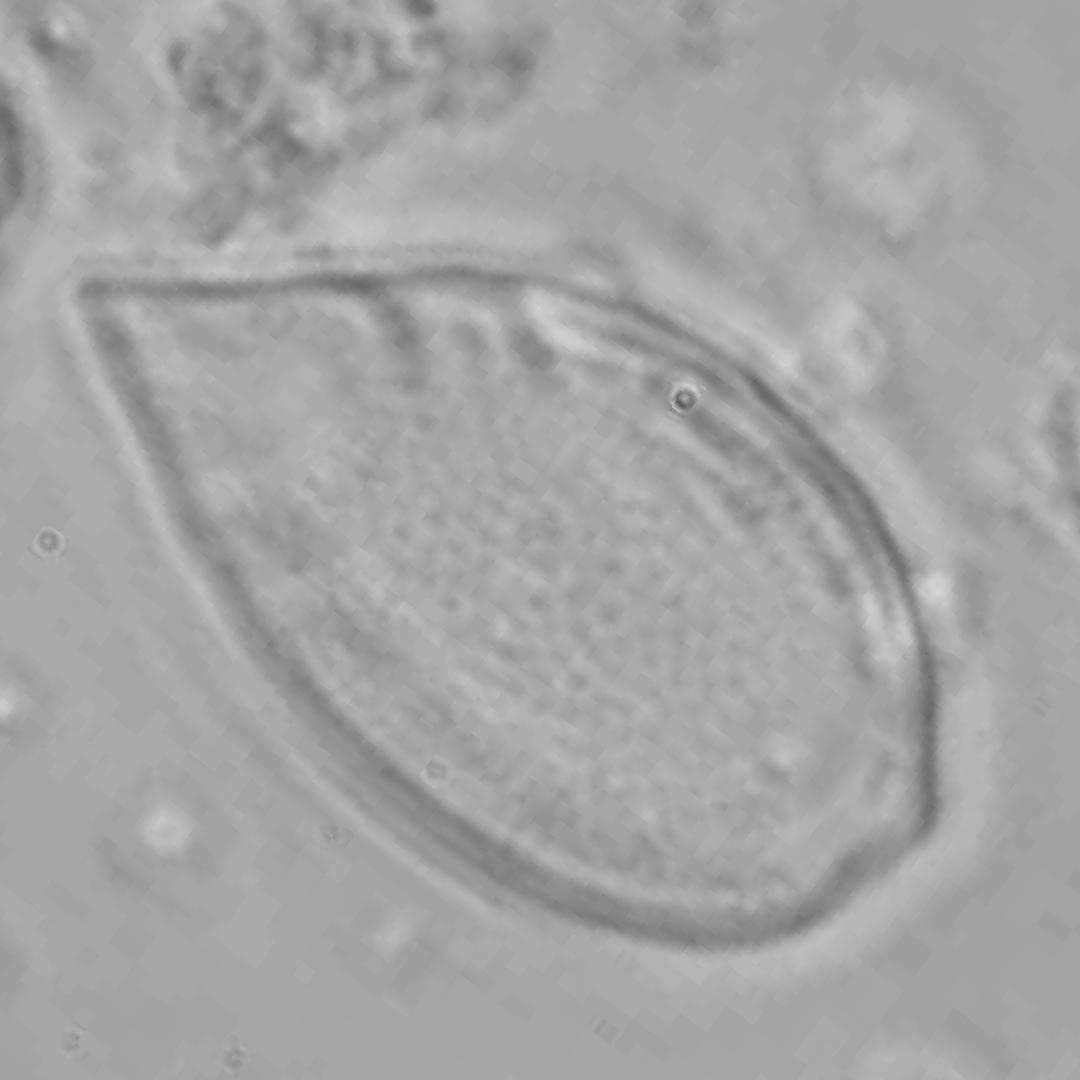prorocentrum_micans: (89, 270, 933, 924)
